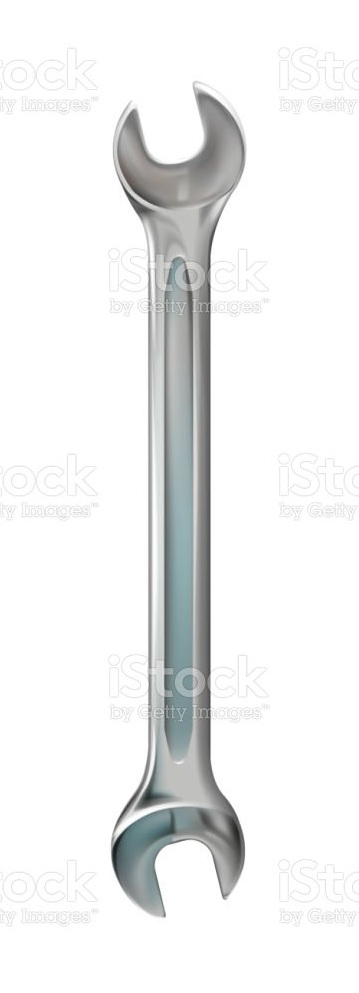Job: (49, 30, 321, 941)
